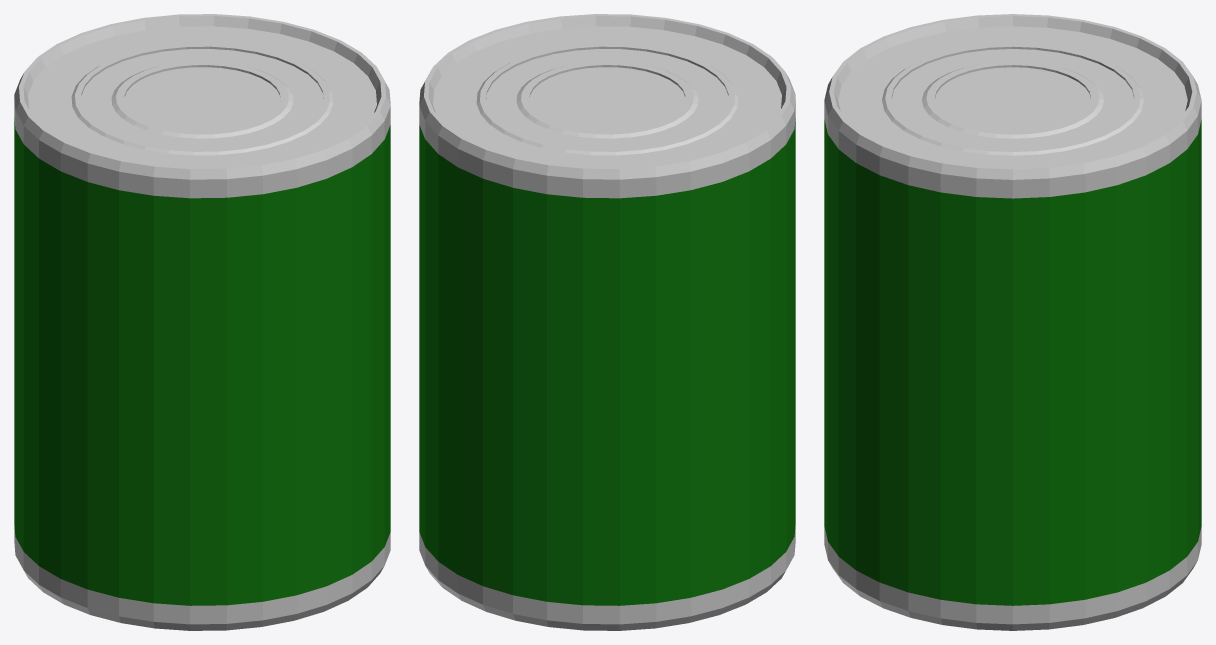
Rendered from lataConservas2.fbx.
The picture shows the model from 3 angles, left to right: view 1: azimuth 30°, elevation 25°; view 2: azimuth 150°, elevation 25°; view 3: azimuth 270°, elevation 25°; orthographic projection.
Visible parts, largest first — view 1: Cylinder; view 2: Cylinder; view 3: Cylinder.
Boxes of the visible parts, left/top/right/bottom form: Cylinder: left=14, top=14, right=390, bottom=630; Cylinder: left=419, top=14, right=795, bottom=630; Cylinder: left=824, top=14, right=1201, bottom=630.
Size of the model in its own units: 200 by 270 by 200.
